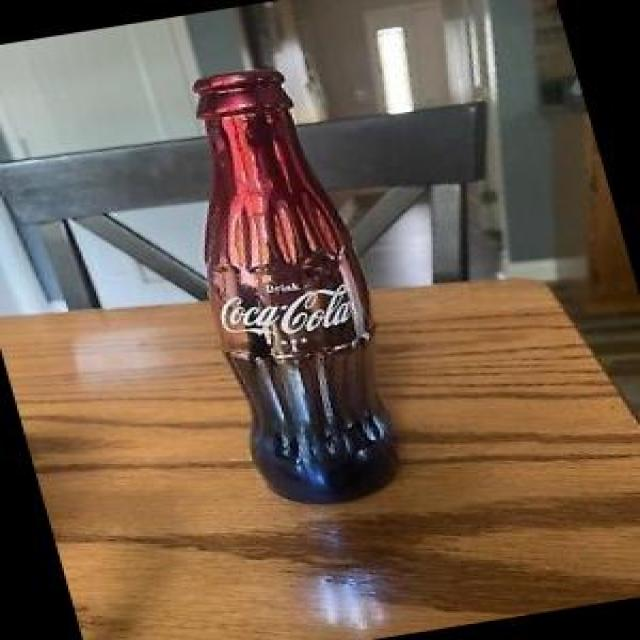coca-cola: (139, 48, 431, 514)
